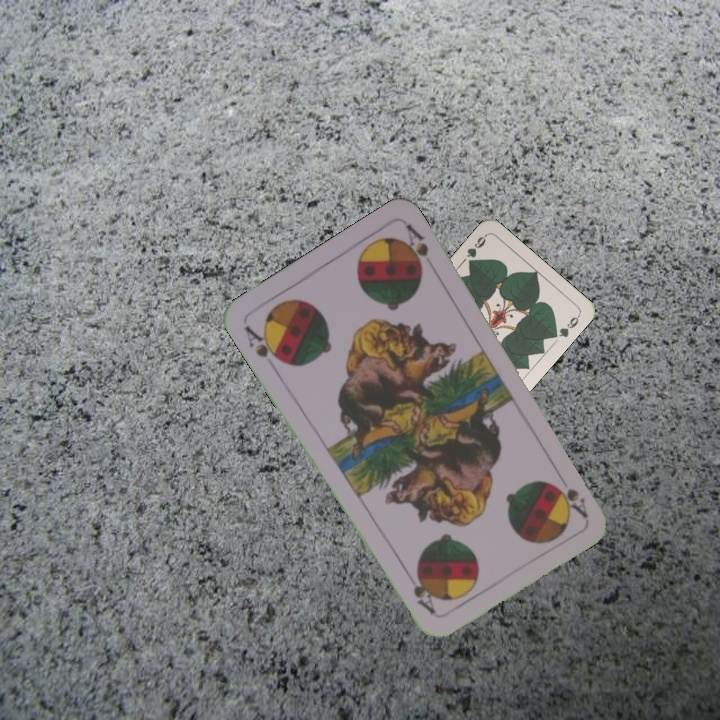G9: (462, 231, 489, 269)
SA: (240, 321, 287, 366), (553, 482, 591, 520)
